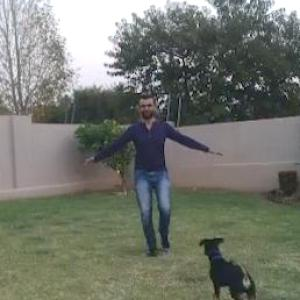land: (56, 62, 224, 288)
